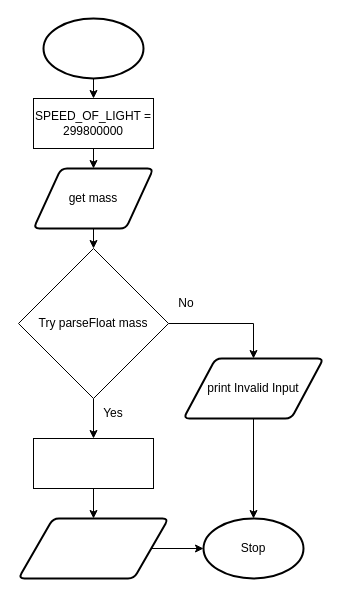
Image size: 341x596. Some labels were removed from this diagram. Here are the shapes that lost their labels. From the top down, the box of each, then its label:
(42, 17, 144, 79): Start
(32, 438, 154, 488): energy = mass * SPEED_OF_LIGHT ** 2
(17, 517, 169, 579): print energy
